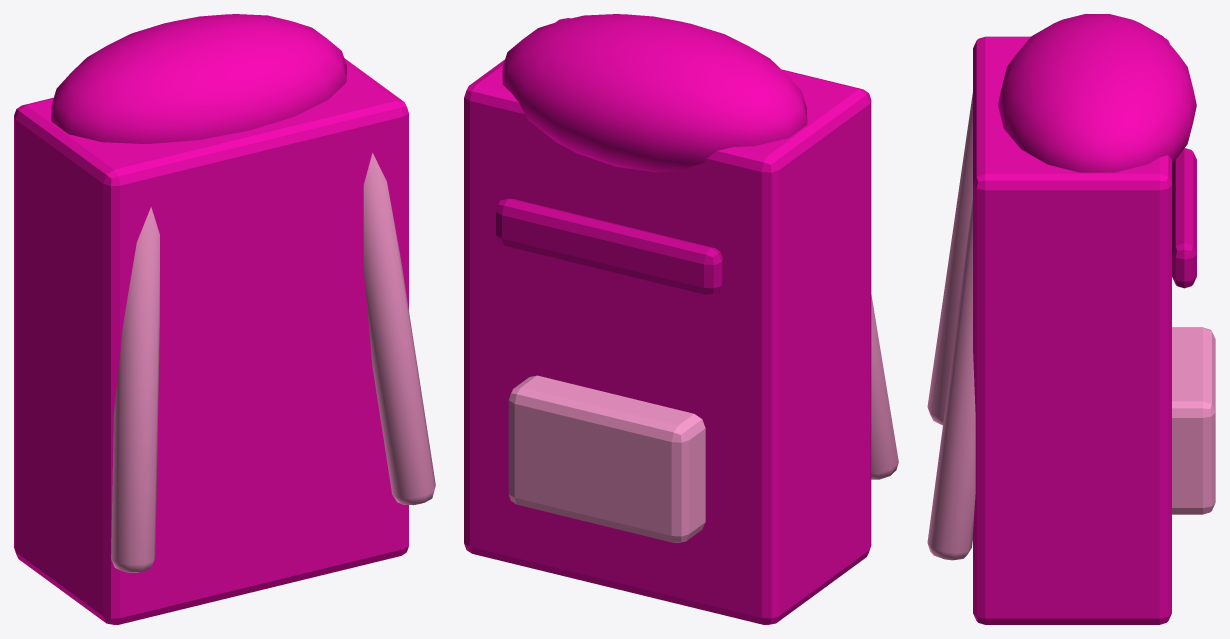
File: VM-CAB-FS1.glb
The picture shows the model from 3 angles, left to right: view 1: azimuth 30°, elevation 25°; view 2: azimuth 150°, elevation 25°; view 3: azimuth 270°, elevation 25°; orthographic projection. The views are drawn at different scales.
Parts seen in each view (by area): view 1: Mochila Plegable Fit Portátil; view 2: Mochila Plegable Fit Portátil; view 3: Mochila Plegable Fit Portátil.
Part boxes in pixels (x1,y1,x2,y2): Mochila Plegable Fit Portátil: (14,14,435,624); Mochila Plegable Fit Portátil: (464,14,898,624); Mochila Plegable Fit Portátil: (927,14,1215,624).
Bounding box in the file's own units: 0.3034 × 0.4722 × 0.2404.
